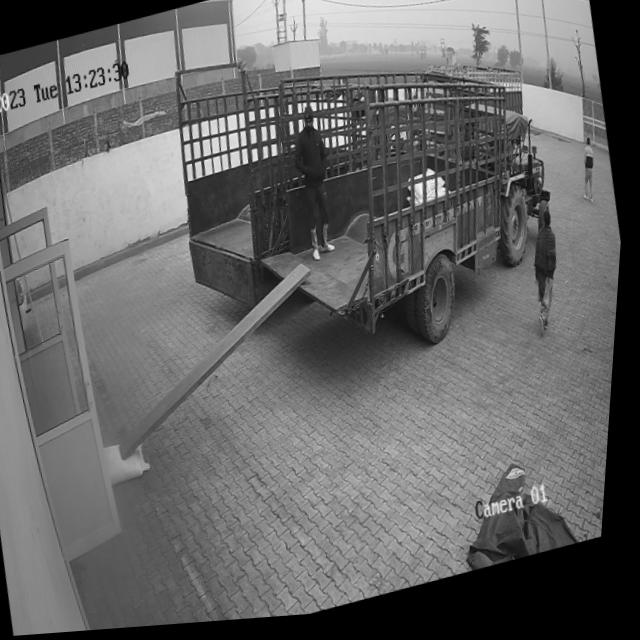sack: (108, 437, 160, 489)
